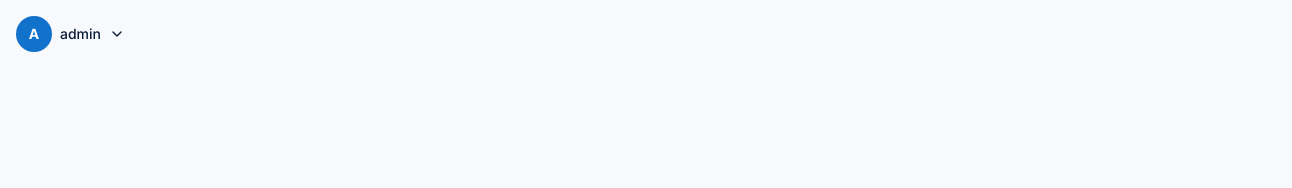
Test: AdminAccountMenu › toggles the panel with the account button and closes on Escape
Later steps or results of the test are not shown.
Click the button with aria-label "Menu akun".
click(72, 34)  # box [12,12,133,56]
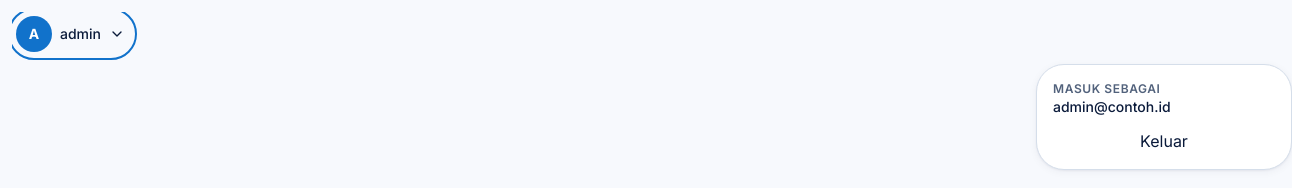
Now the button with aria-label "Menu akun" is expanded, box [12,12,133,56]
Now the button "Keluar" is shown, box [1053,129,1275,153]
